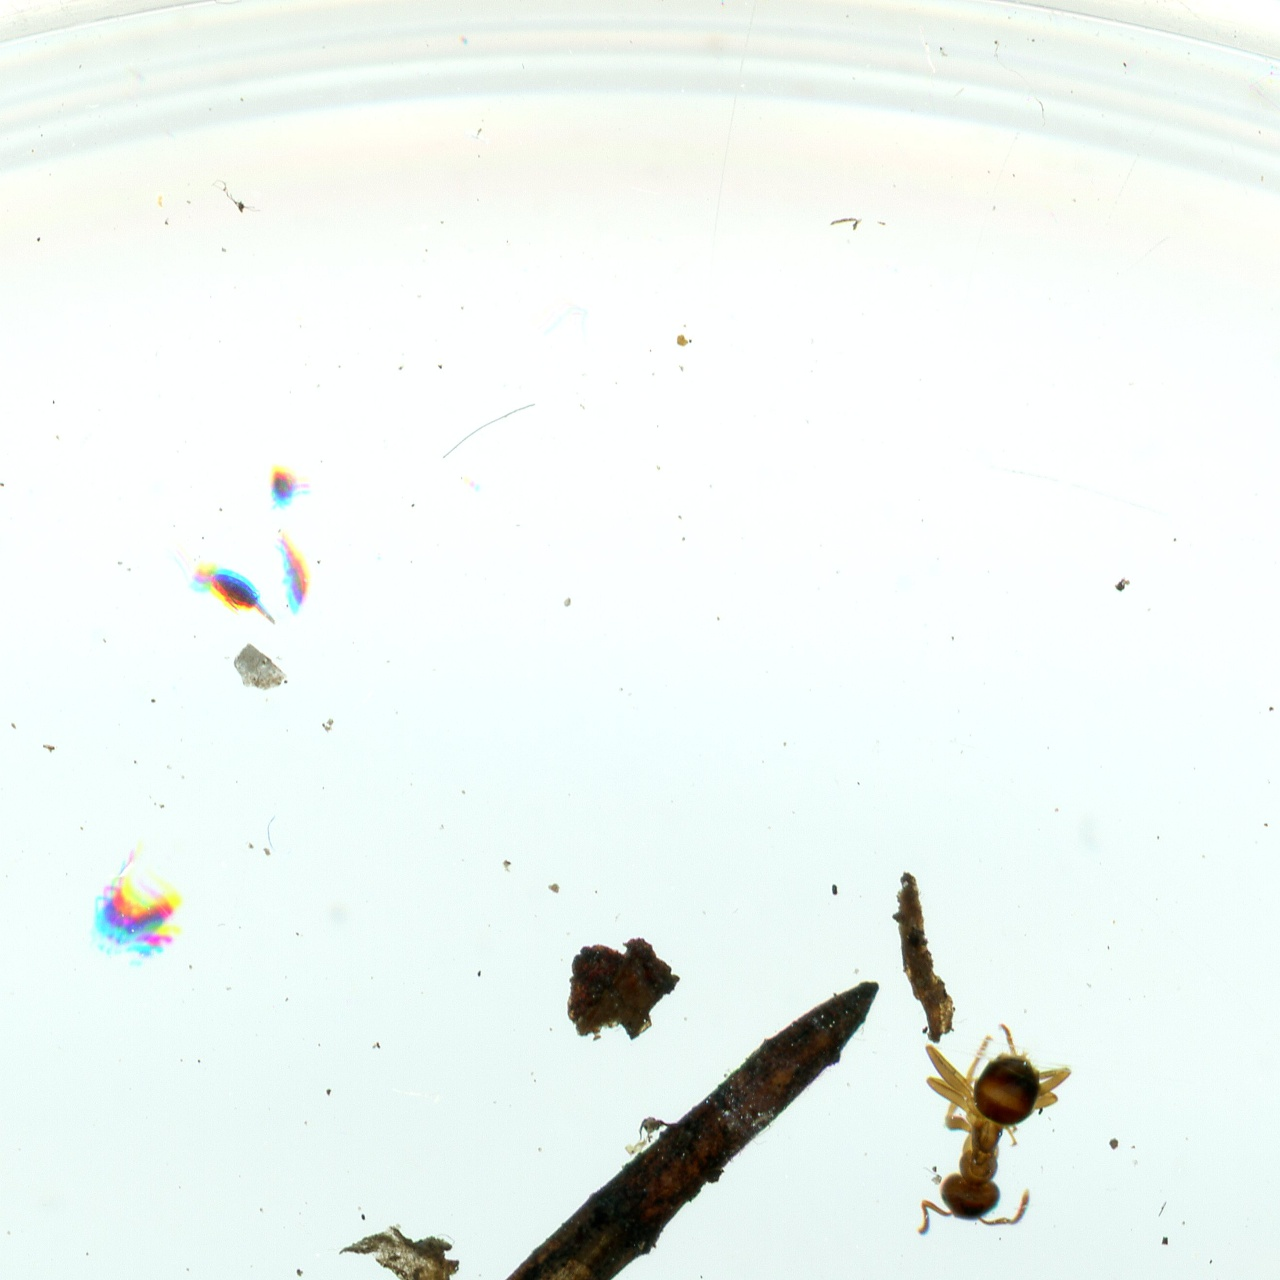arthropod: (912, 1022, 1074, 1241), (155, 536, 292, 635), (93, 846, 183, 960)
